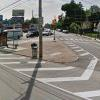Crosswalk: (4, 49, 99, 95)
